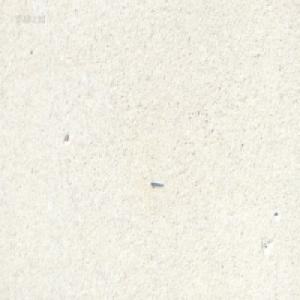Nail: (150, 177, 163, 186)
